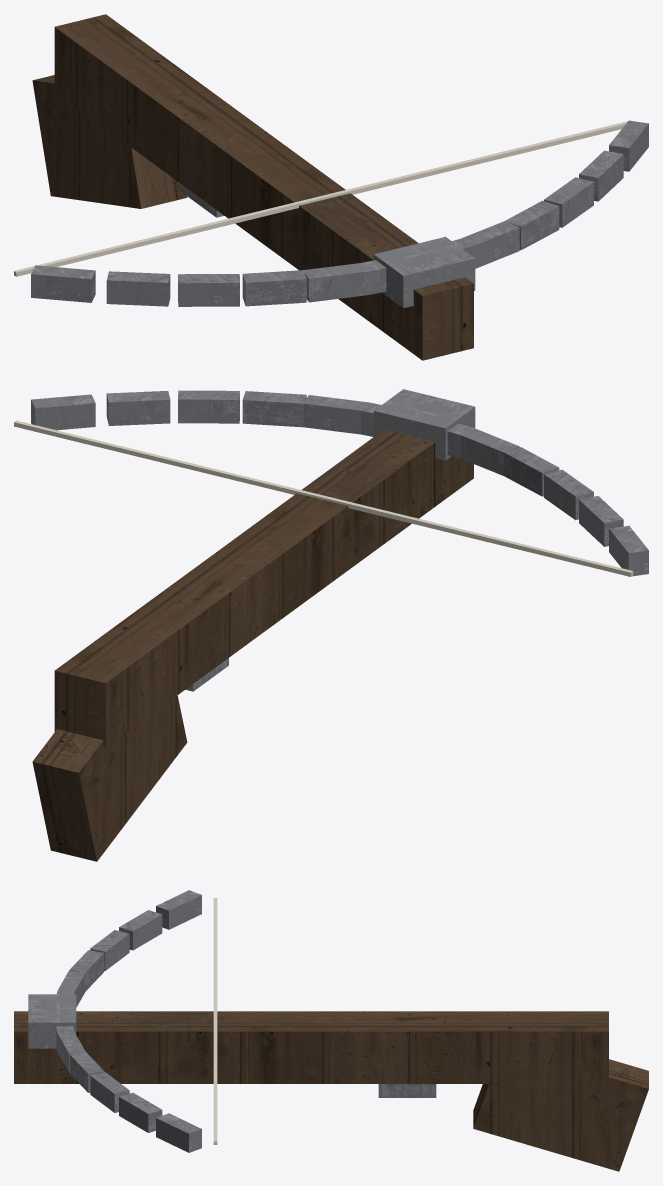
Rendered from crossbow_1handed.glb.
The picture shows the model from 3 angles, top to bottom: view 1: azimuth 30°, elevation 25°; view 2: azimuth 150°, elevation 25°; view 3: azimuth 270°, elevation 25°; orthographic projection. The views are drawn at different scales.
Visible parts, largest first — view 1: crossbow_1handed; view 2: crossbow_1handed; view 3: crossbow_1handed.
Part boxes in pixels (box(x1,y1,x2,y2)): crossbow_1handed: box(14, 14, 648, 360); crossbow_1handed: box(14, 389, 648, 861); crossbow_1handed: box(14, 890, 648, 1171).
Bounding box in the file's own units: 0.6009 × 0.1773 × 0.6615.
Materials: 3 (2 with a texture image).
